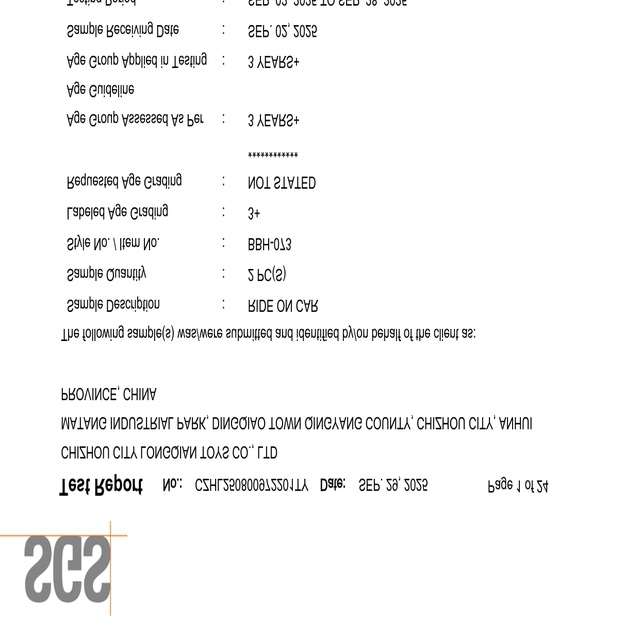sgs: (23, 535, 110, 603)
